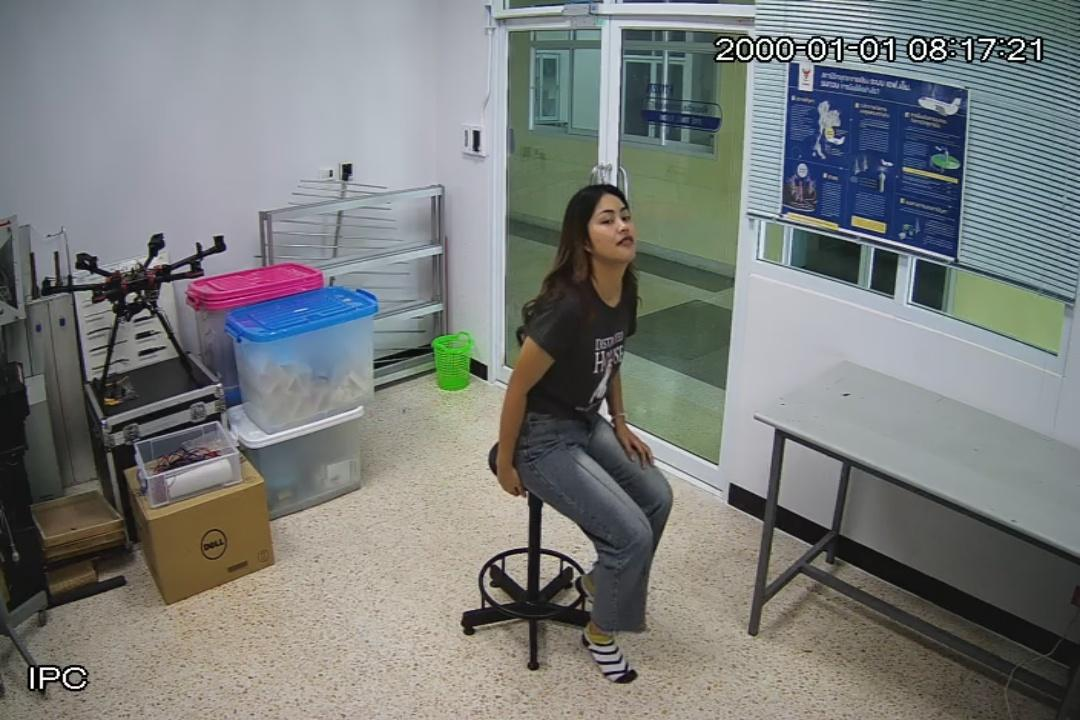normal: (493, 178, 678, 690)
